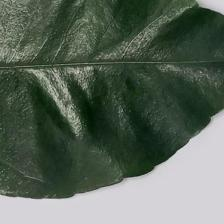healthy: (2, 2, 224, 189)
